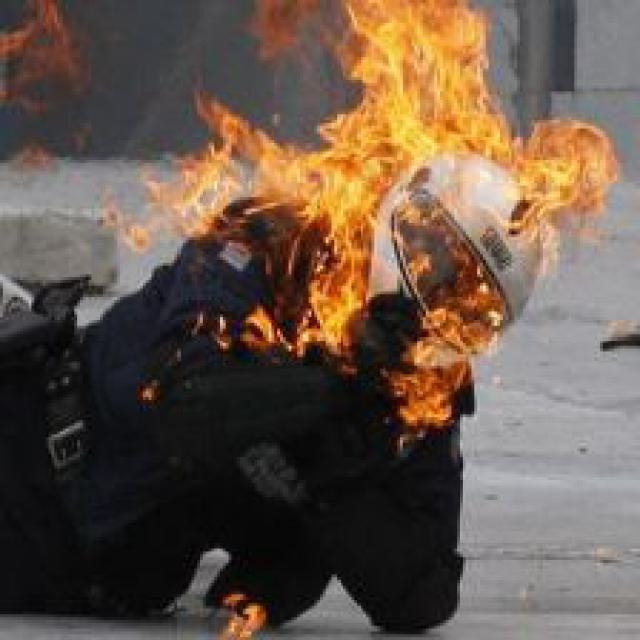fire: (206, 3, 623, 368)
